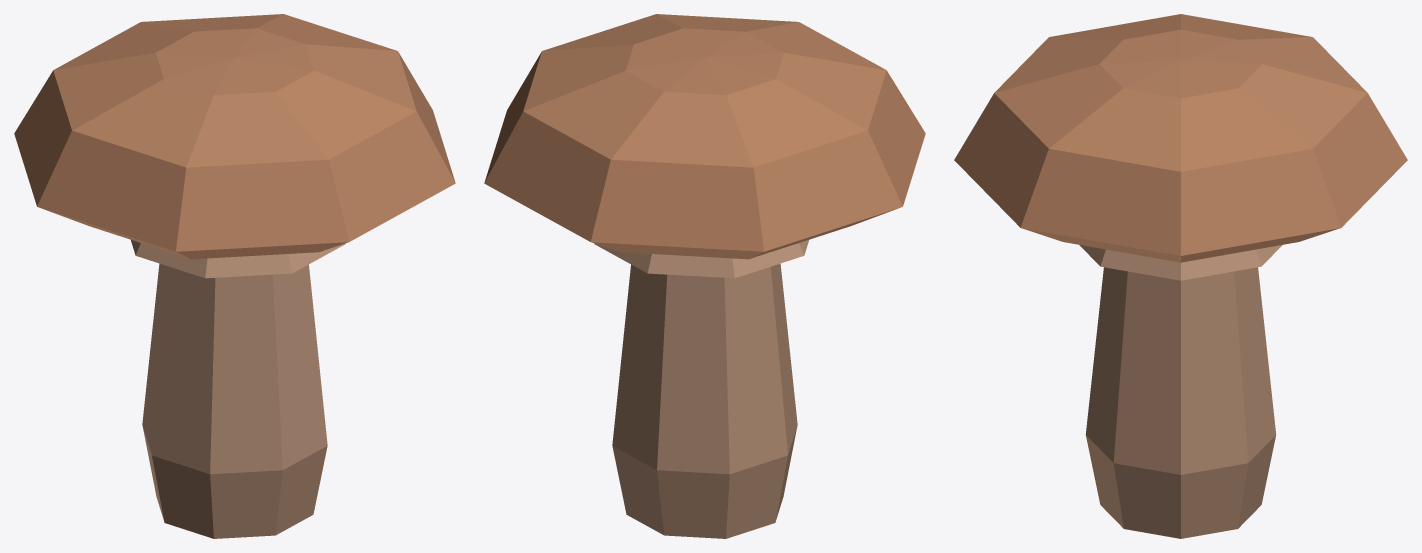
Rendered from Mushroom_07.fbx.
3 views of the same model, side by side, from view 1: azimuth 30°, elevation 25°; view 2: azimuth 150°, elevation 25°; view 3: azimuth 270°, elevation 25° (orthographic).
Parts seen in each view (by area): view 1: Mushroom_07; view 2: Mushroom_07; view 3: Mushroom_07.
Part boxes in pixels (<box>): Mushroom_07: <box>14,14,455,538</box>; Mushroom_07: <box>484,14,925,538</box>; Mushroom_07: <box>954,14,1407,538</box>.
Size of the model in its own units: 60.03 by 64.88 by 60.03.
